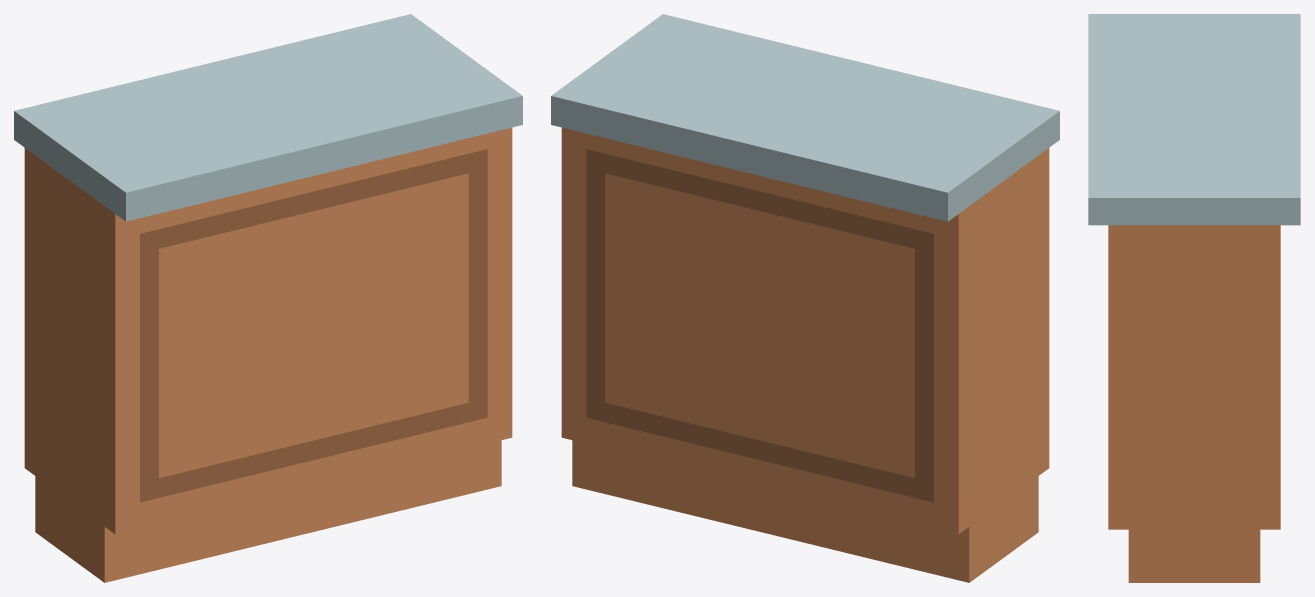
Rendered from kitchenBar.fbx.
The picture shows the model from 3 angles, left to right: view 1: azimuth 30°, elevation 25°; view 2: azimuth 150°, elevation 25°; view 3: azimuth 270°, elevation 25°; orthographic projection. The views are drawn at different scales.
Parts seen in each view (by area): view 1: kitchenBar; view 2: kitchenBar; view 3: kitchenBar.
Part boxes in pixels (x1,y1,x2,y2): kitchenBar: (14, 14, 522, 582); kitchenBar: (551, 14, 1059, 582); kitchenBar: (1088, 14, 1300, 582).
Bounding box in the file's own units: 4.3 × 4.2 × 2.1.
